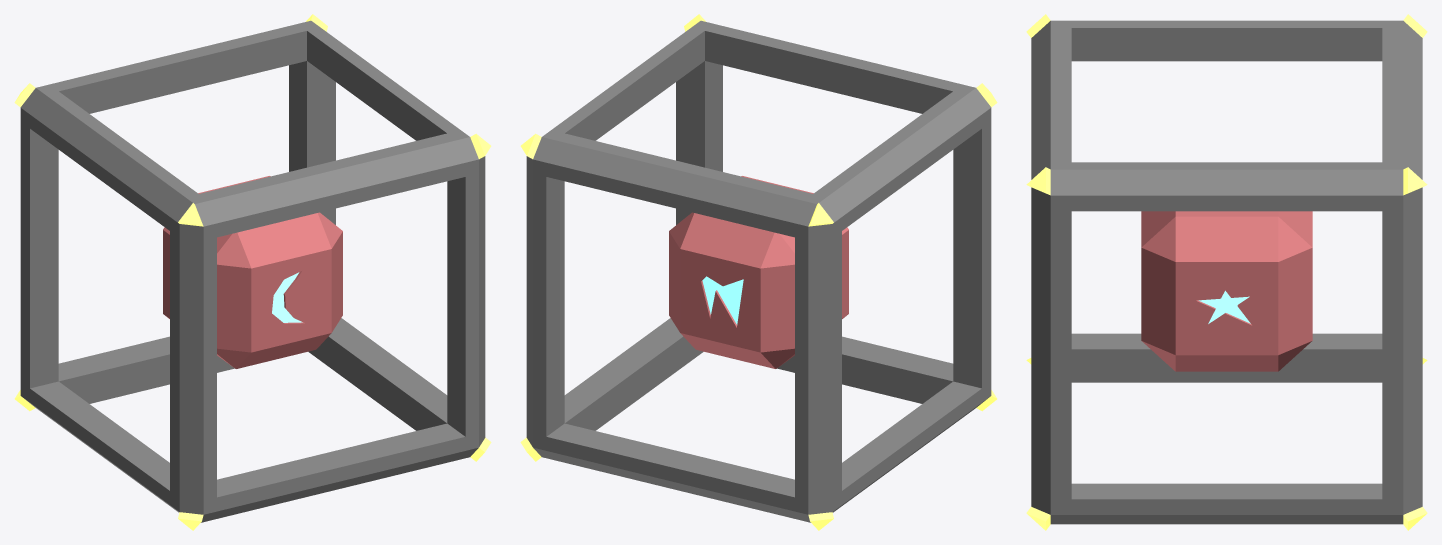
The model's file is Player.fbx.
3 renders of one model, left to right at view 1: azimuth 30°, elevation 25°; view 2: azimuth 150°, elevation 25°; view 3: azimuth 270°, elevation 25°, orthographic. The views are drawn at different scales.
Parts seen in each view (by area): view 1: Karakter, Cube.001; view 2: Karakter, Cube.001; view 3: Karakter, Cube.001.
Boxes of the visible parts, x1=… form: Karakter: x1=14, y1=14, x2=491, y2=530; Cube.001: x1=163, y1=176, x2=342, y2=368; Karakter: x1=520, y1=14, x2=997, y2=530; Cube.001: x1=669, y1=176, x2=848, y2=368; Karakter: x1=1026, y1=14, x2=1427, y2=530; Cube.001: x1=1141, y1=211, x2=1312, y2=371.
Size of the model in its own units: 205 by 205 by 205.
